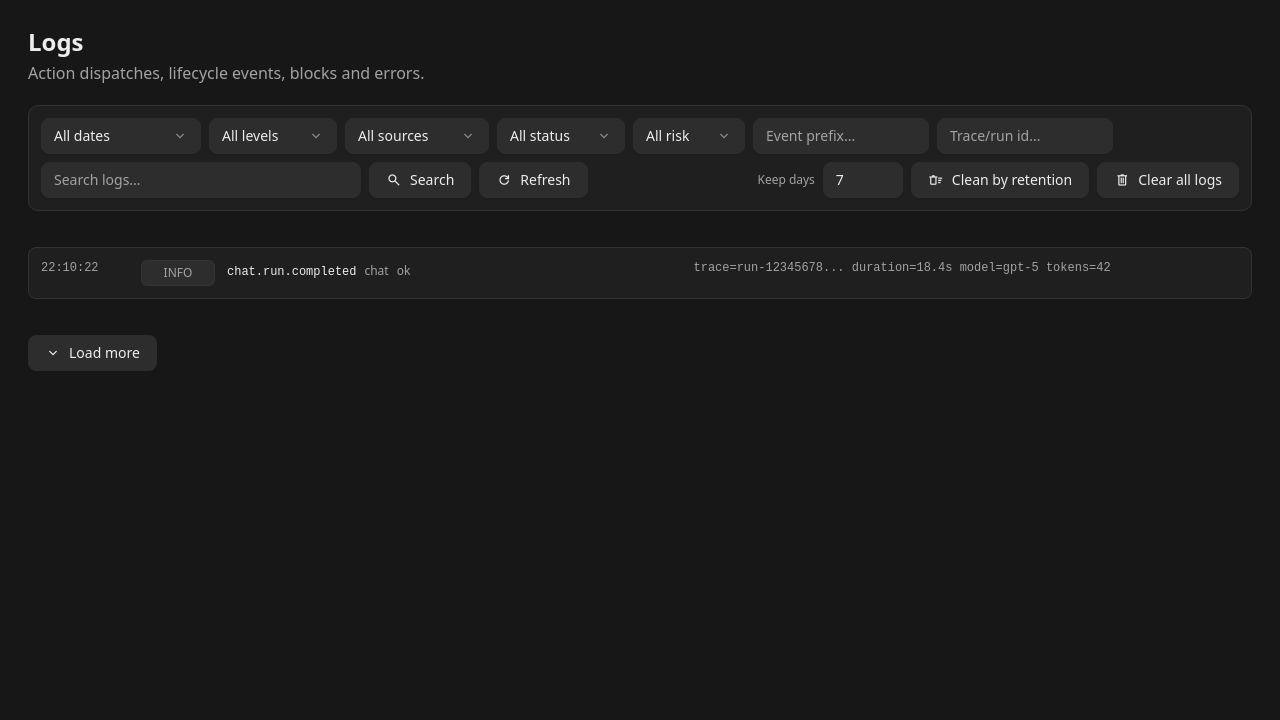
it: LogsModule › renders syslog-like structured rows and detail attributes
Expected: the text "INFO" is shown, [141,260,215,286]
Expected: the text "trace=run-12345678... duration=18.4s model=gpt-5 tokens=42" is shown, [694,261,1111,275]
Click the text "chat.run.completed".
click(292, 272)  # box [227,265,356,279]
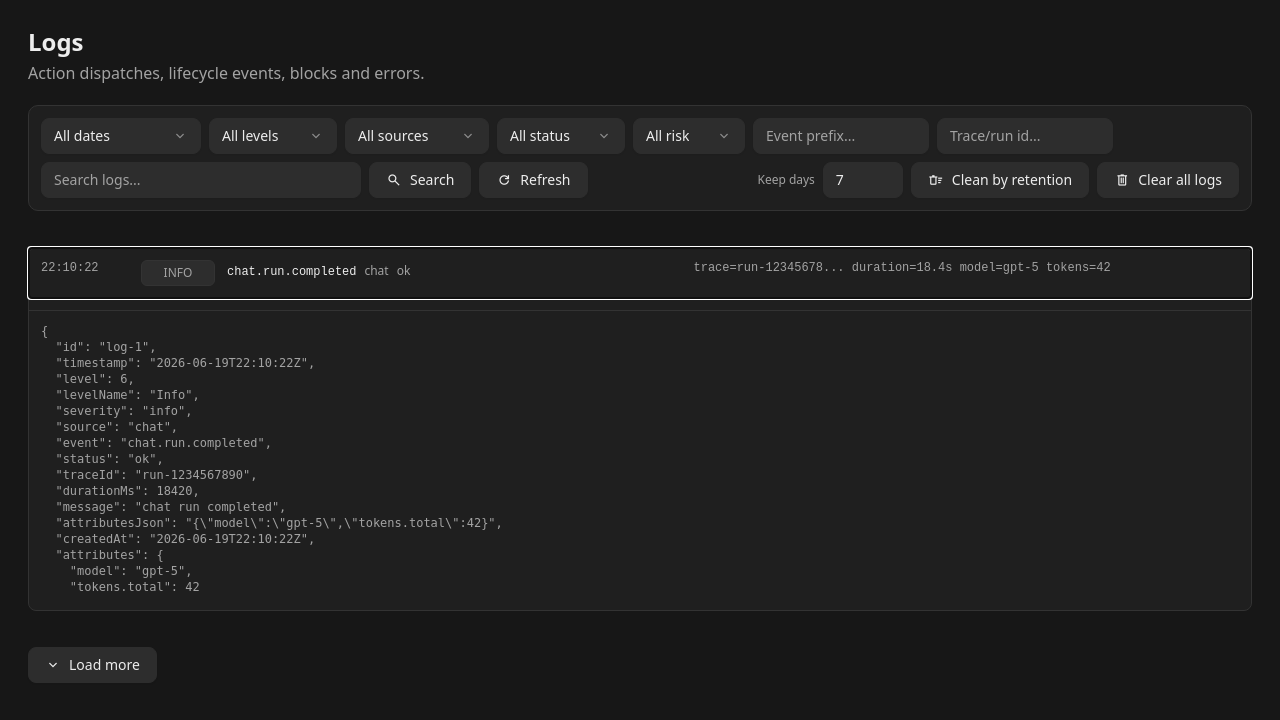
Result: the text "\"tokens.total\": 42" is shown at [41,324,503,626]
